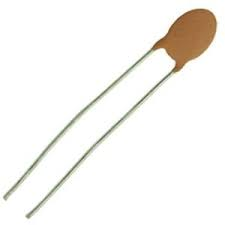ceramic capacitor: (122, 4, 225, 93)
